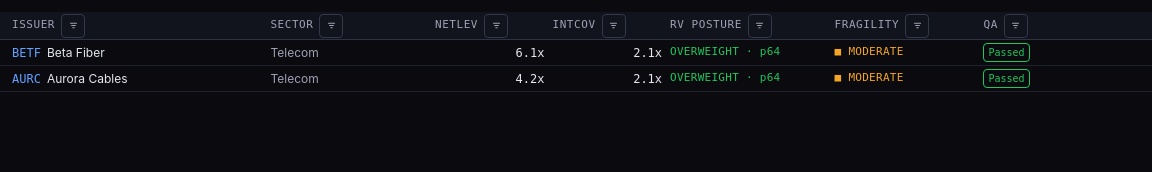
Test: LiveCoverage › sorts the observed dataset with a keyboard-operable header control
Click the button with aria-label "Sort NetLev ascending" at (456, 26), box [435,14,478,38]
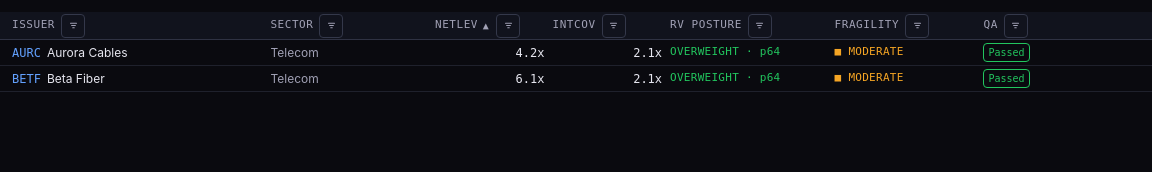
Now the button with aria-label "Sort NetLev descending" is shown, box [435,14,490,38]
